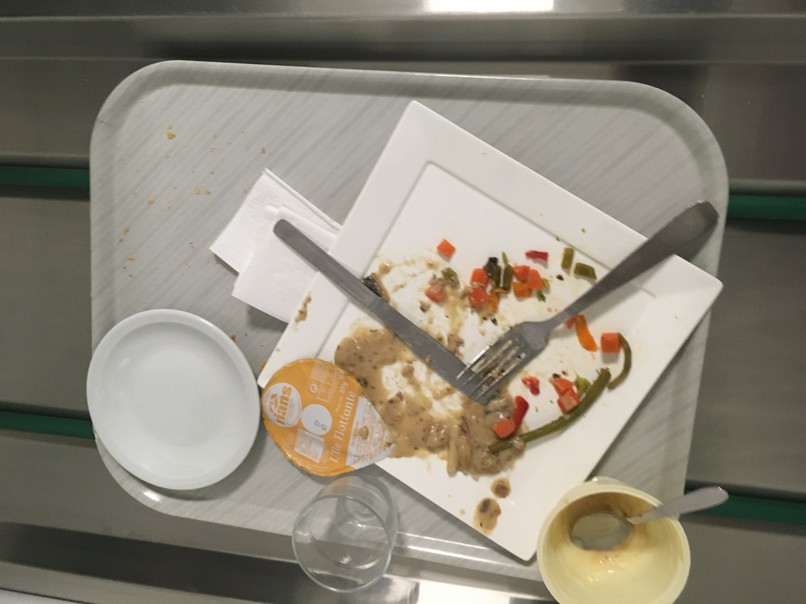cup: (285, 474, 400, 600)
cutlery: (457, 197, 716, 400), (272, 218, 499, 399), (567, 478, 731, 556)
orga: (405, 398, 534, 473), (462, 244, 551, 315)
trash: (218, 171, 345, 314), (255, 358, 401, 473), (558, 478, 690, 604)
